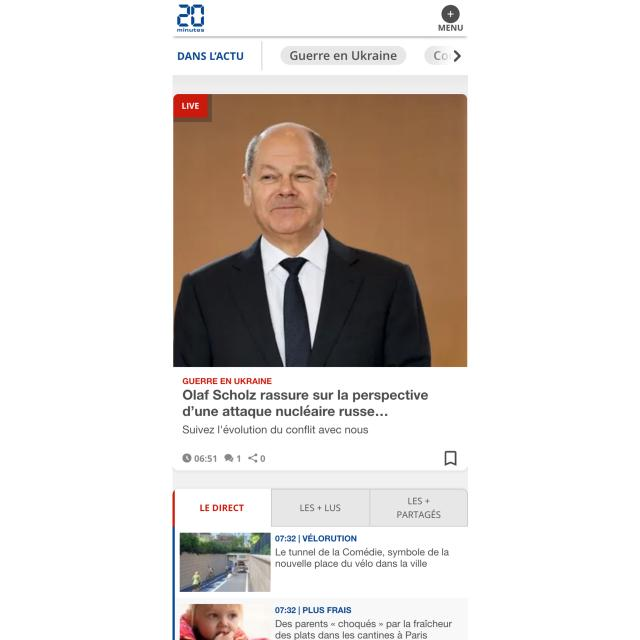logo: (172, 1, 210, 36)
navigation: (435, 1, 466, 36)
